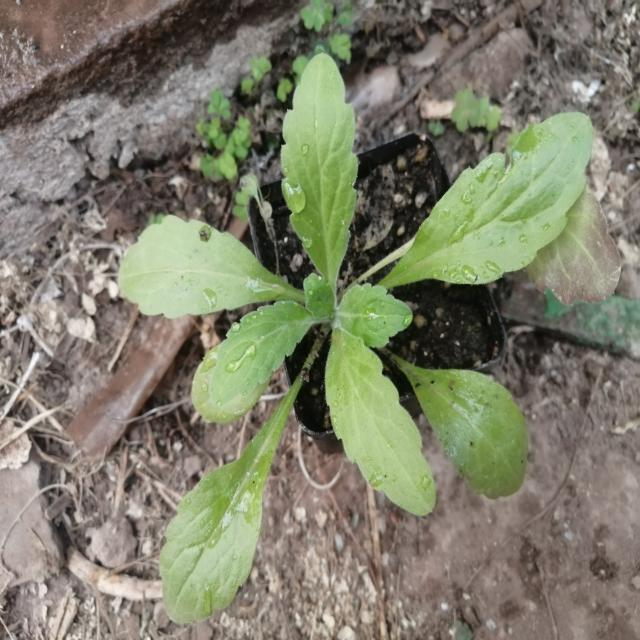horseweed: (117, 103, 591, 551)
